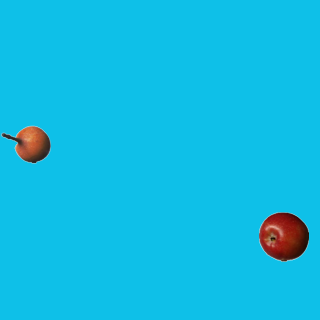Apple Braeburn: (258, 211, 308, 261)
Granadilla: (0, 119, 50, 169)
